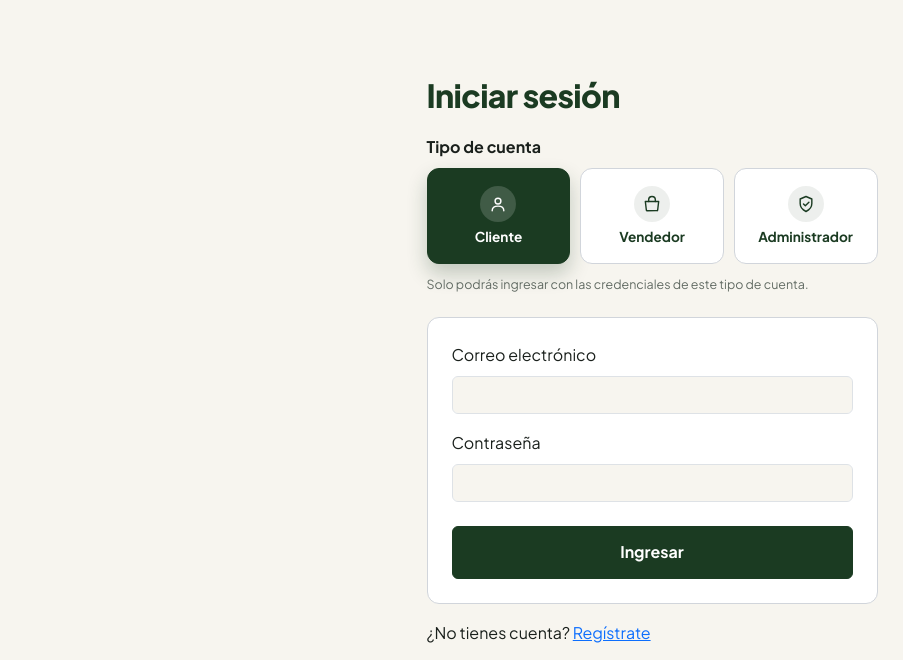
it: Login › envía el rol seleccionado al iniciar sesión
Click the button "Administrador": coordinates (806, 216) [734,168,878,264]
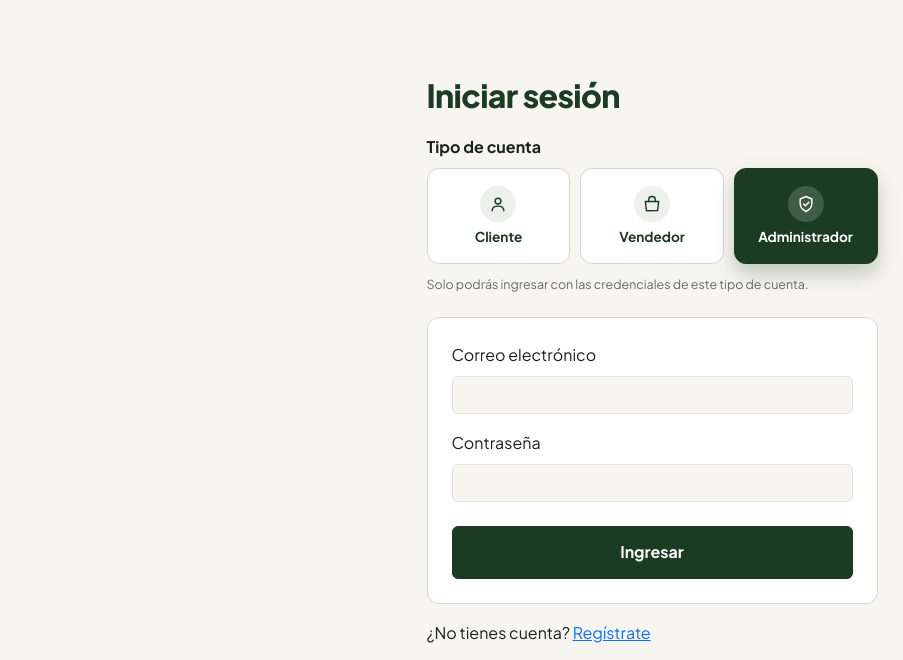
In the field labelled "Correo electrónico": coordinates (652, 395) [452,376,852,414], type "admin@huerto.cl"
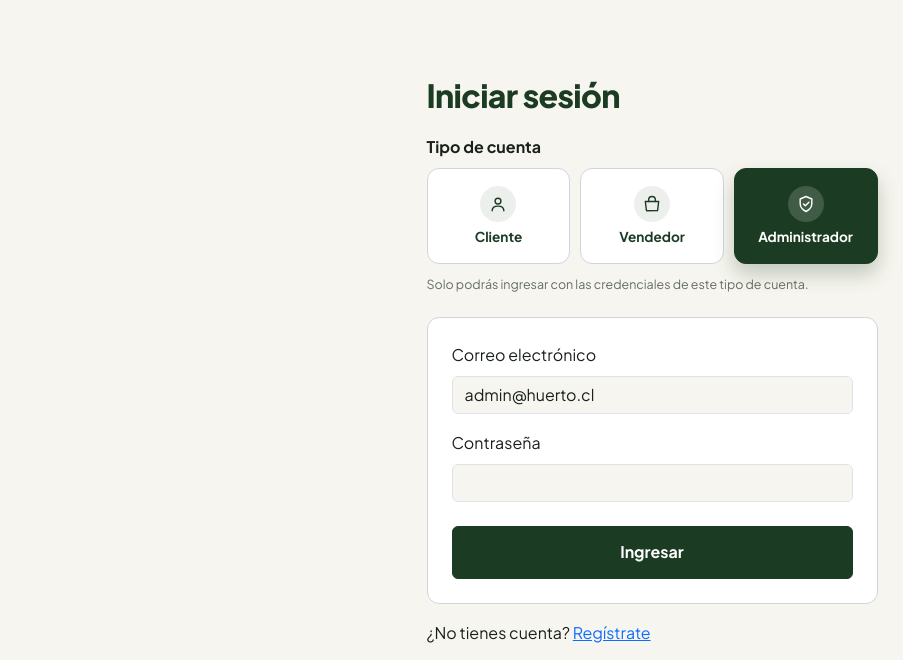
In the password field labelled "Contraseña": coordinates (652, 483) [452,464,852,502], type "Admin123!"
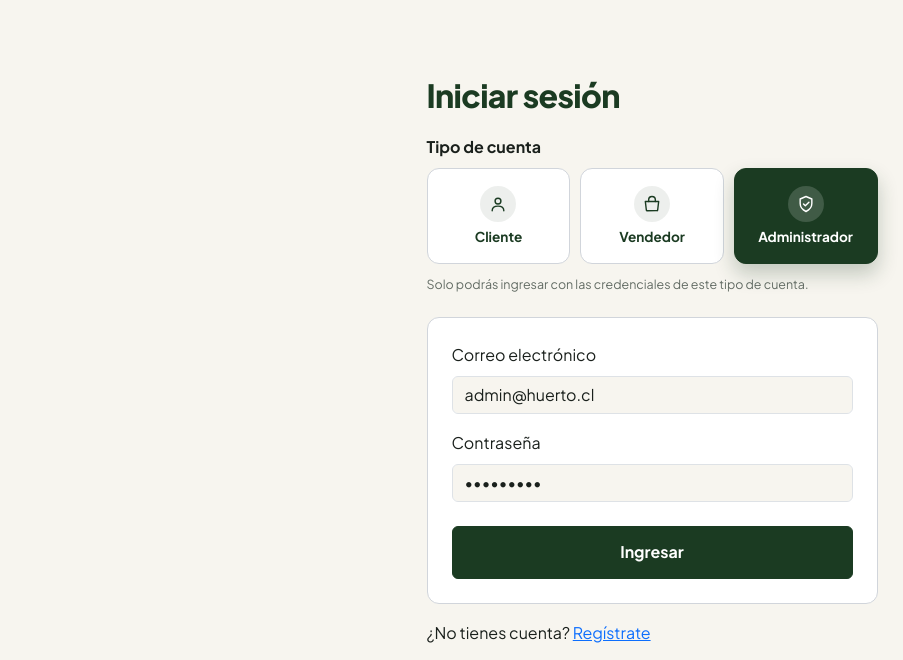
Click the button "Ingresar": coordinates (652, 552) [452,526,852,579]
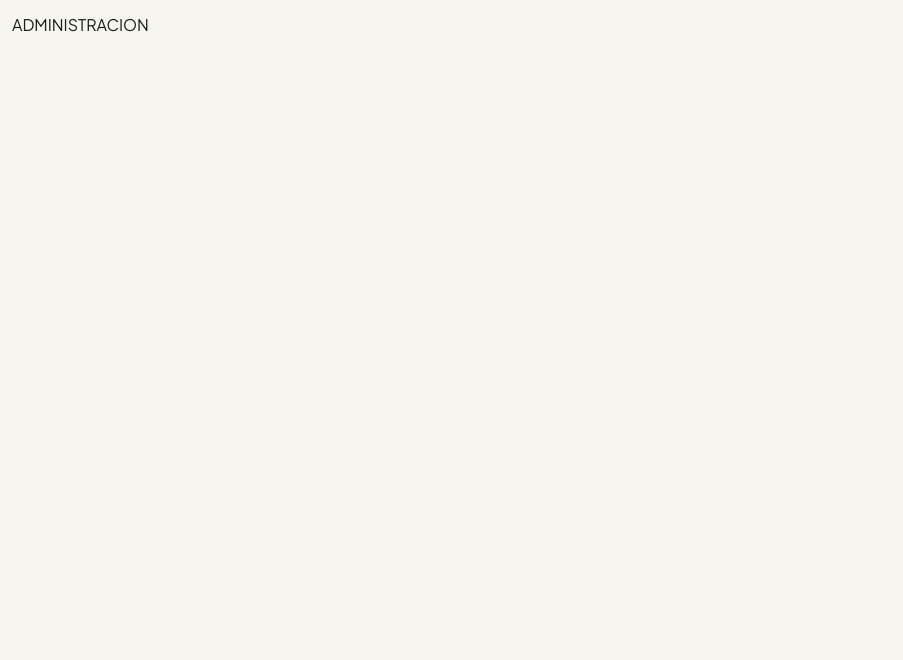
Check: the text "ADMINISTRACION" is shown, box [12,14,149,35]
